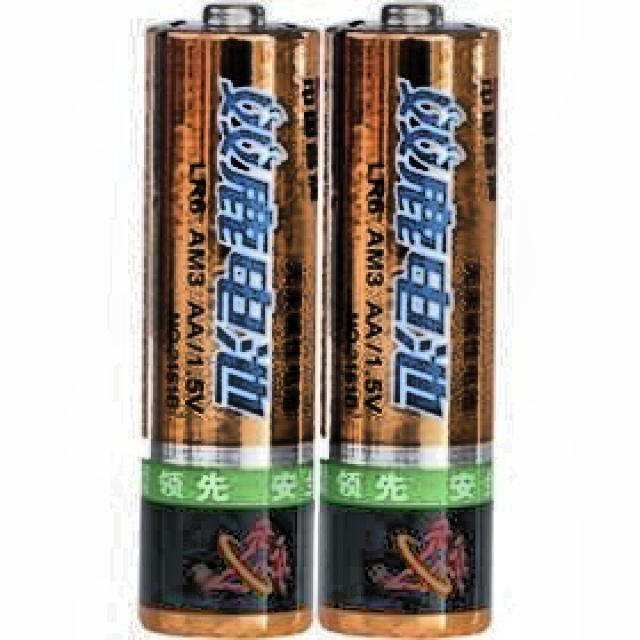Non-Valuable Waste - Batteries: (140, 4, 319, 636), (320, 4, 499, 636)
